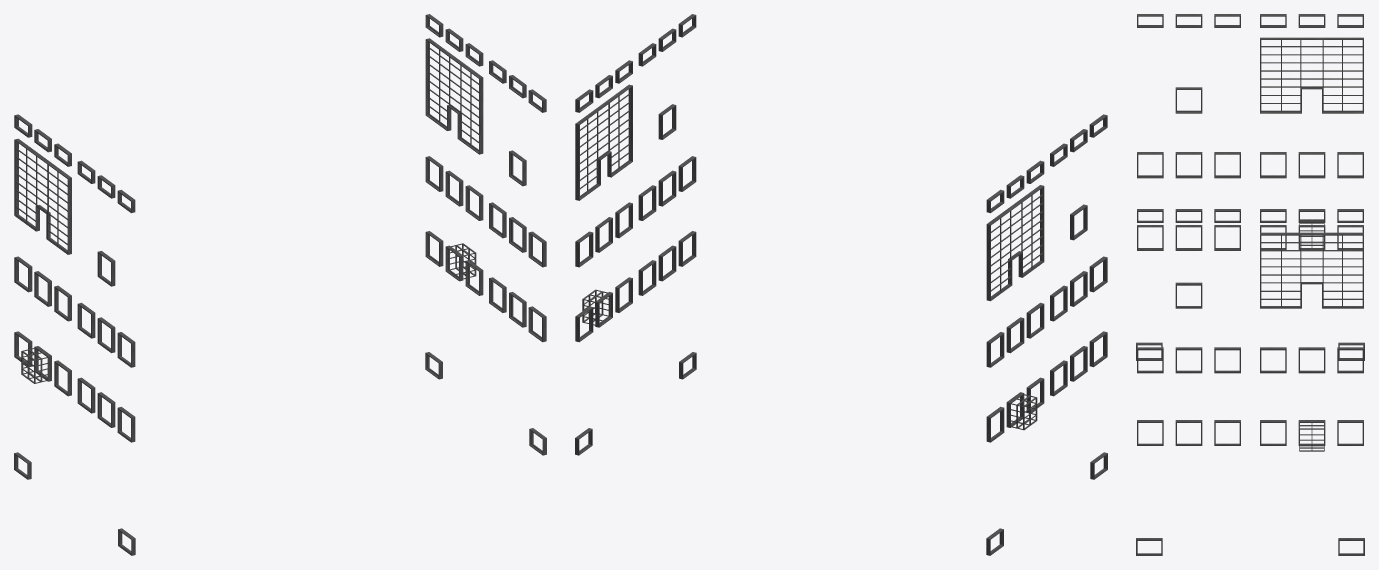
File: 20251116_Building03_windowframes.fbx
3 renders of one model, left to right at view 1: azimuth 30°, elevation 25°; view 2: azimuth 150°, elevation 25°; view 3: azimuth 270°, elevation 25°, orthographic. The views are drawn at different scales.
Visible parts, largest first — view 1: black metal; view 2: black metal; view 3: black metal.
Boxes of the visible parts, <box> form: black metal: <box>14,14,546,555</box>; black metal: <box>575,14,1107,555</box>; black metal: <box>1136,14,1364,555</box>.
Bounding box in the file's own units: 667 × 308 × 512.
1 material, 1 textured.
